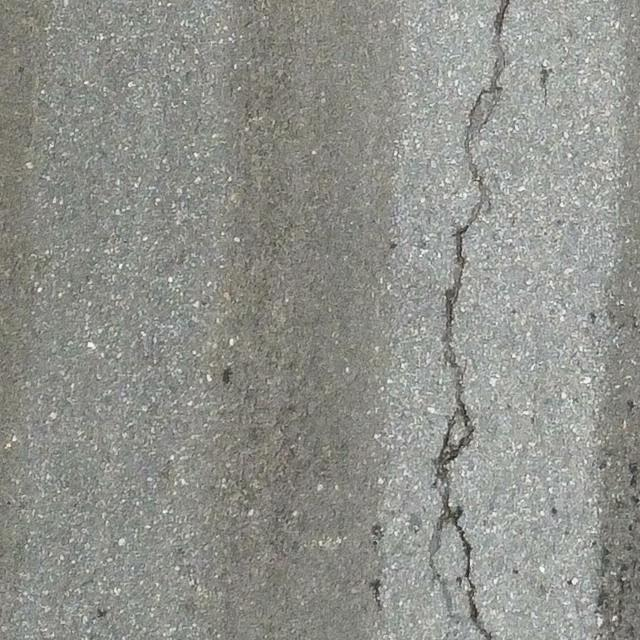LongitudinalCrack: (428, 1, 510, 640)
